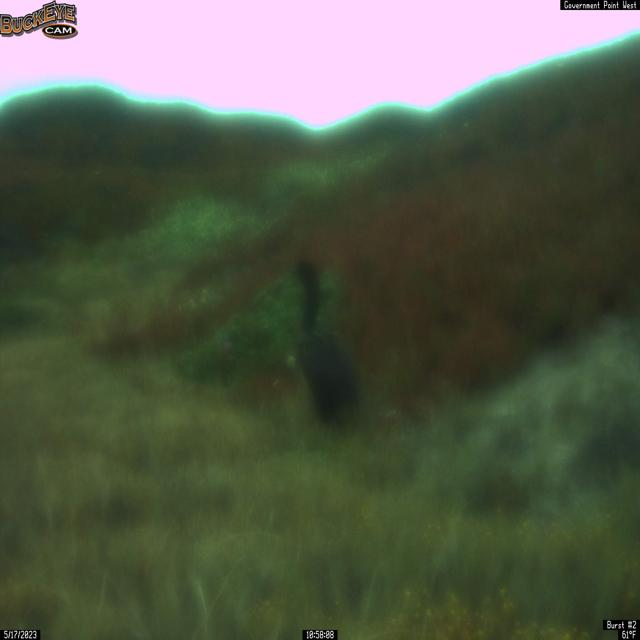bird: (287, 258, 363, 428)
